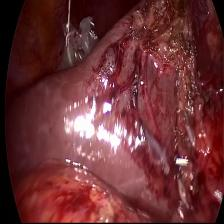Specimen Bag: (52, 10, 100, 73)
